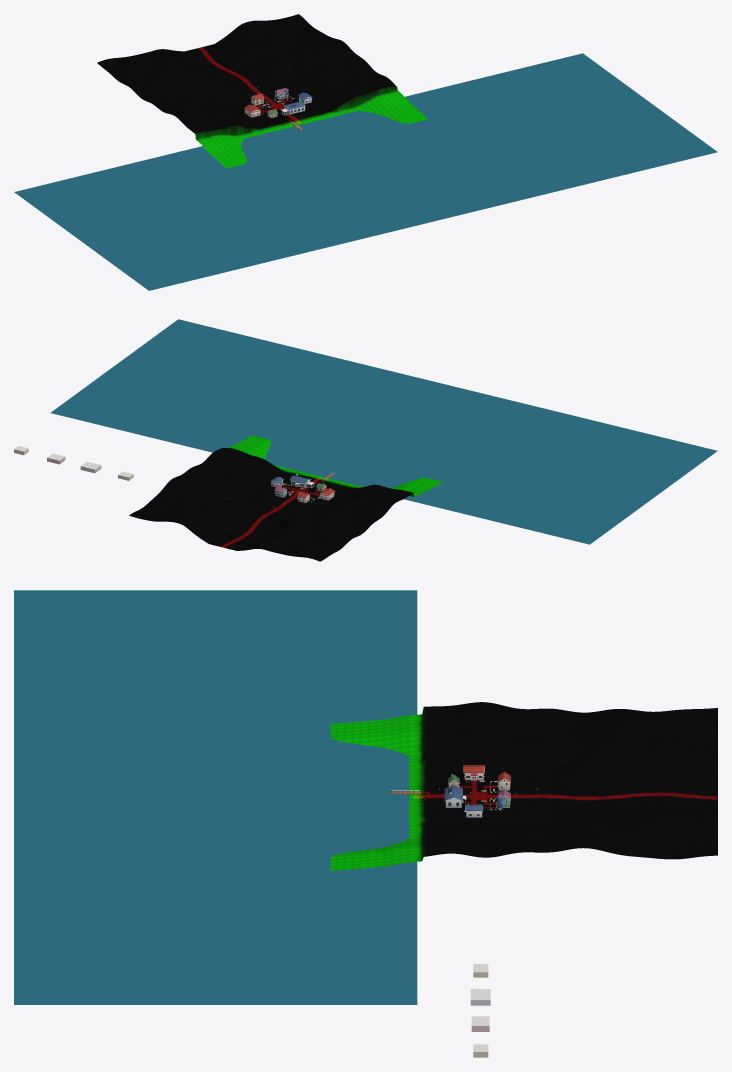
File: PalletTown.glb
3 renders of one model, top to bottom at view 1: azimuth 30°, elevation 25°; view 2: azimuth 150°, elevation 25°; view 3: azimuth 270°, elevation 25°, orthographic. The views are drawn at different scales.
Visible parts, largest first — view 1: Sea, Terrain; view 2: Sea, Terrain; view 3: Sea, Terrain.
Boxes of the visible parts, x1,y1,x2,y2 form: Sea: (14, 53, 717, 290); Terrain: (97, 14, 427, 168); Sea: (50, 319, 717, 544); Terrain: (129, 435, 442, 561); Sea: (14, 590, 417, 1004); Terrain: (330, 702, 717, 870).
Size of the model in its own units: 636 by 46.21 by 445.
Materials: 52 (45 with a texture image).
